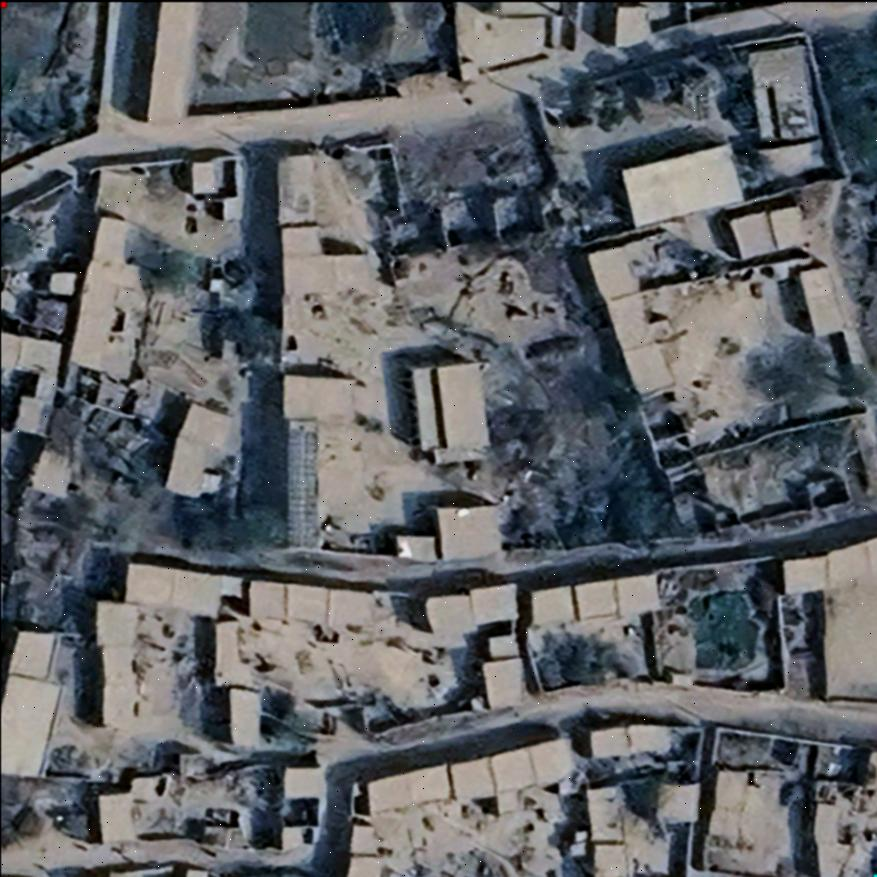Solarpanel: (280, 420, 320, 553)
